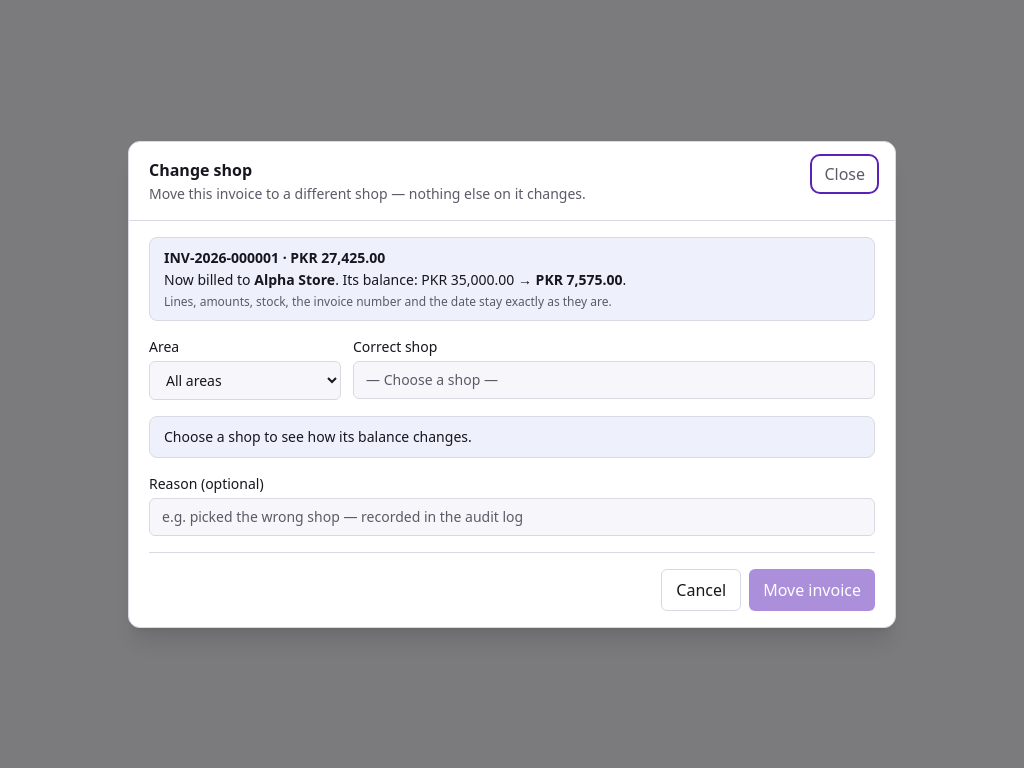
Test: Change shop › the shop the invoice already belongs to is refused (Save stays off) with the reason
The image size is (1024, 768).
Click the dropdown named "Correct shop": (614, 380) [353,360,875,398]
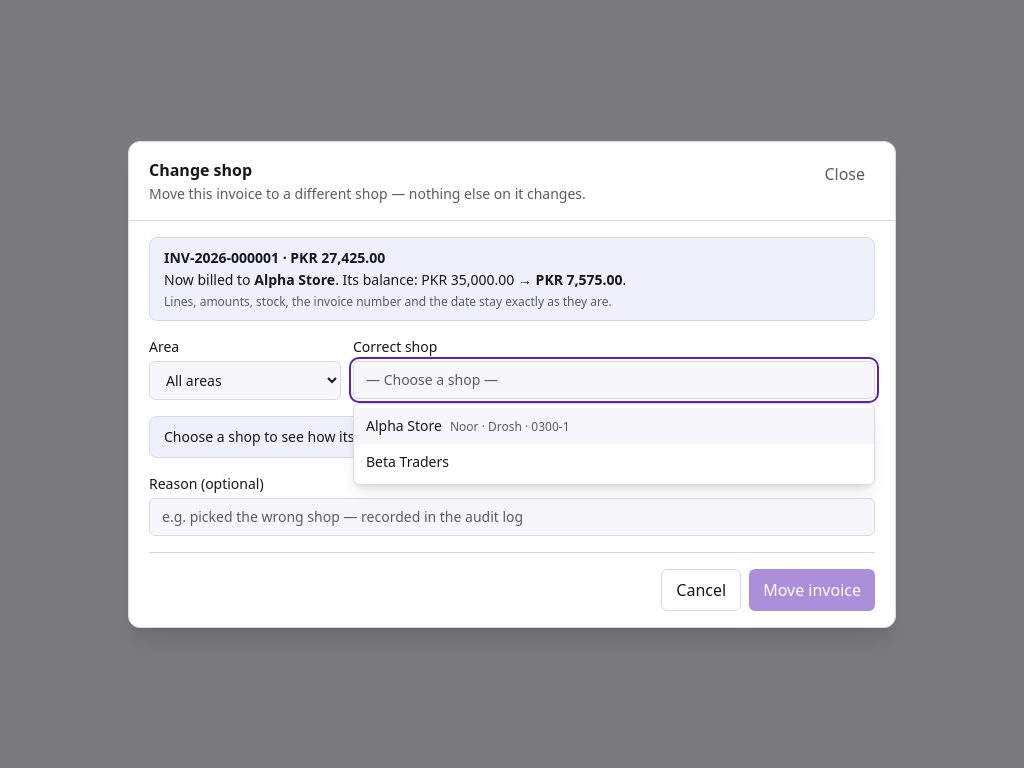
Click the option "Alpha": (404, 425) [354,408,874,444]
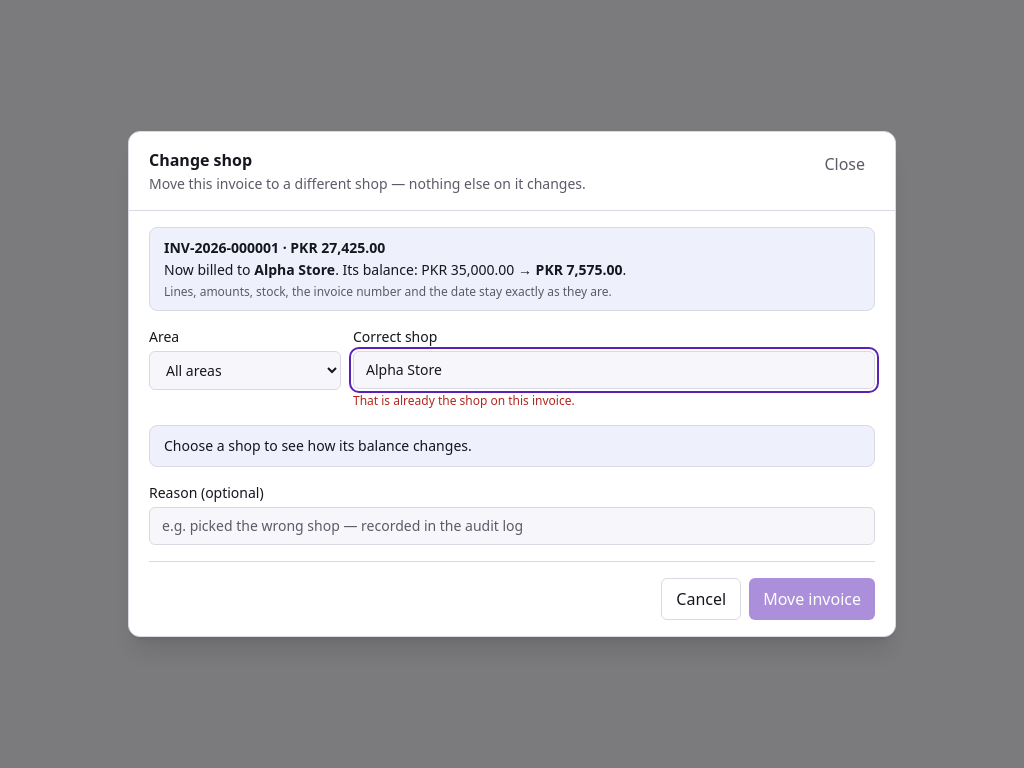
Check: the button "Move invoice" is disabled, box [749,578,875,620]
Check: the text "That is already the shop on this invoice." is shown, box [353,392,575,409]
